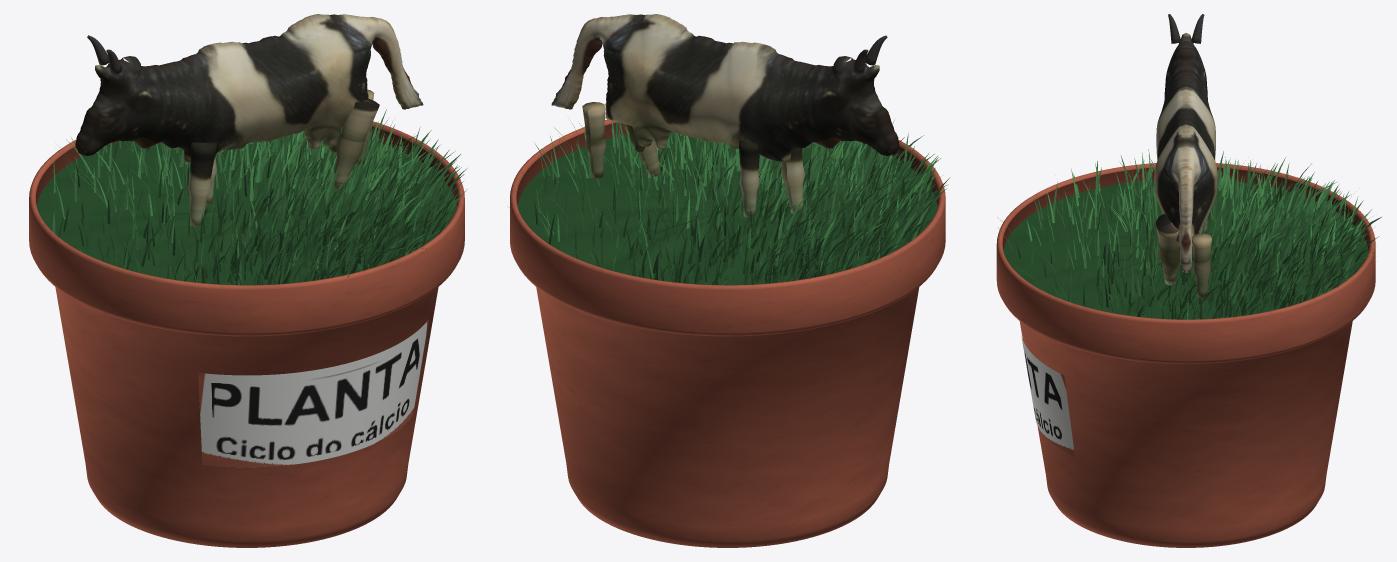
The model's file is planta_e_vaca_13_03_web.glb.
3 views of the same model, side by side, from view 1: azimuth 30°, elevation 25°; view 2: azimuth 150°, elevation 25°; view 3: azimuth 270°, elevation 25° (orthographic). The views are drawn at different scales.
Visible parts, largest first — view 1: Vaso_Planta, Grama_Artificial, Vaca_de_Brinquedo, Rotulo_Vaso_Planta; view 2: Vaso_Planta, Grama_Artificial, Vaca_de_Brinquedo; view 3: Vaso_Planta, Grama_Artificial, Vaca_de_Brinquedo, Rotulo_Vaso_Planta.
Part boxes in pixels (x1,y1,x2,y2): Vaso_Planta: (29,121,464,547); Grama_Artificial: (37,109,467,285); Vaca_de_Brinquedo: (75,14,423,226); Rotulo_Vaso_Planta: (198,319,428,467); Vaso_Planta: (510,119,945,547); Grama_Artificial: (507,120,950,285); Vaca_de_Brinquedo: (551,14,899,217); Vaso_Planta: (996,163,1375,547); Grama_Artificial: (997,149,1381,319); Vaca_de_Brinquedo: (1154,14,1217,298); Rotulo_Vaso_Planta: (1021,334,1074,456).
Size of the model in its own units: 0.158 by 0.1888 by 0.1654.
7 materials, 4 textured.
